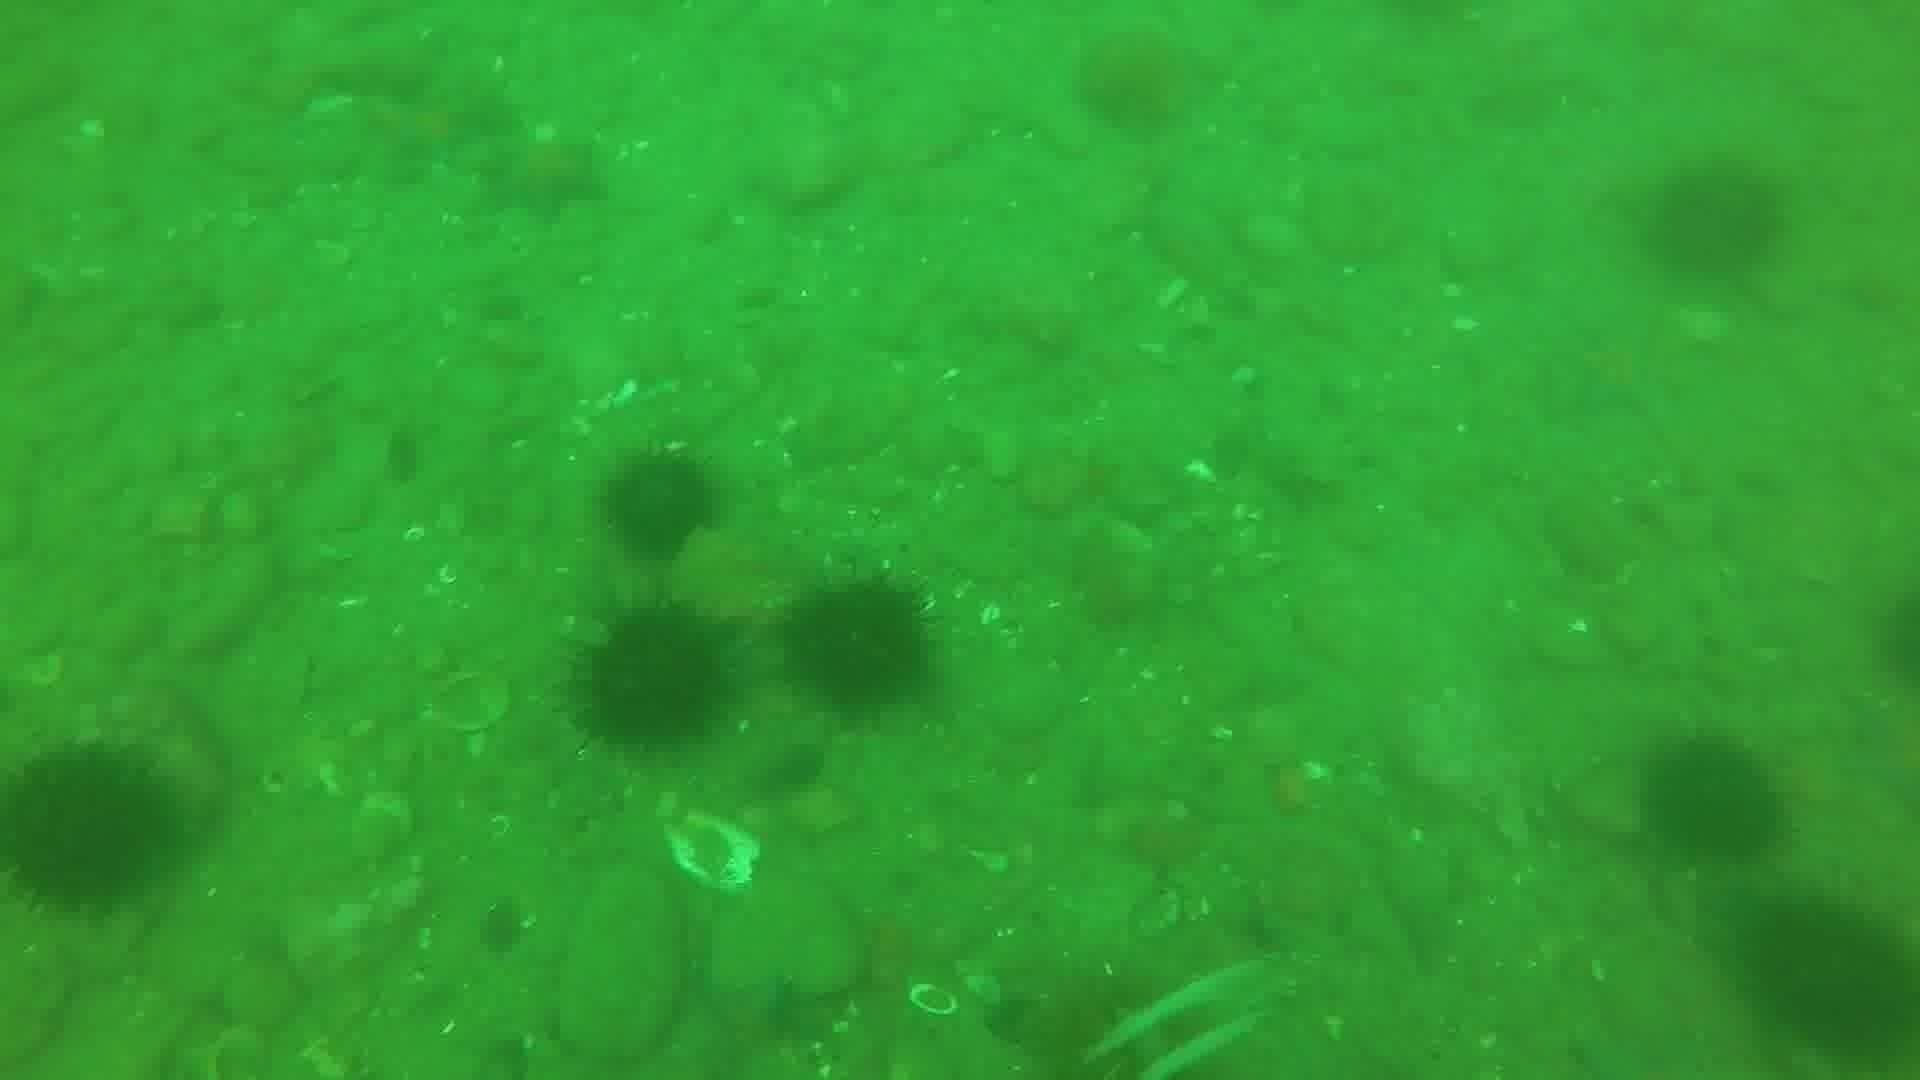echinus: (3, 738, 181, 918), (1738, 889, 1917, 1065), (568, 600, 735, 756), (779, 574, 938, 717), (1636, 732, 1791, 868), (1642, 156, 1789, 285), (595, 446, 723, 566), (471, 895, 534, 959)
starfish: (477, 131, 613, 227), (1549, 324, 1673, 425), (371, 87, 492, 171)
